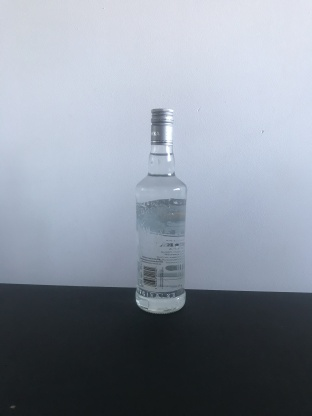nakretka: (149, 105, 175, 147)
